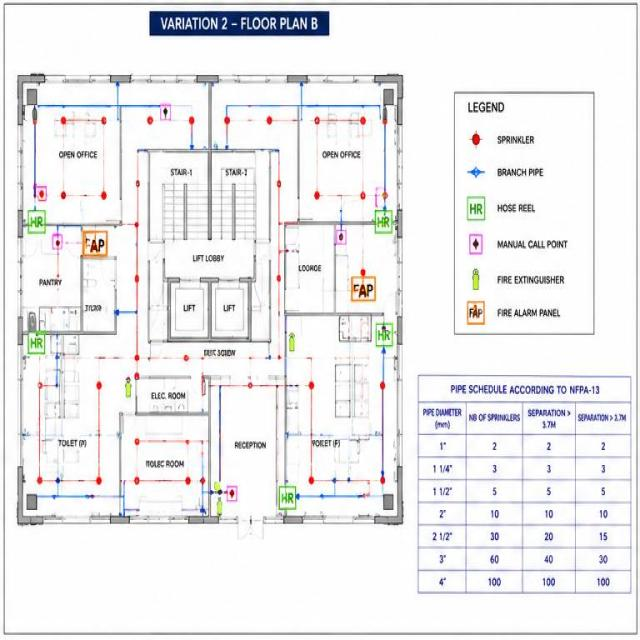branch_pipe: (133, 144, 287, 373), (133, 148, 284, 374), (221, 80, 412, 208), (308, 109, 371, 207), (128, 429, 201, 491), (32, 484, 130, 524)
fire_alarm_panel: (78, 228, 115, 264), (350, 274, 379, 304)
fire_extinguisher: (208, 491, 229, 519), (285, 326, 300, 358), (122, 372, 134, 404)
hose_reel: (374, 321, 396, 353), (369, 208, 395, 235), (24, 208, 48, 236), (278, 484, 297, 513), (27, 329, 47, 356)
manual_call_point: (158, 96, 175, 125), (334, 225, 350, 247), (225, 483, 242, 503), (34, 182, 49, 204), (51, 232, 65, 254)
sprinkler: (185, 110, 200, 133), (306, 376, 322, 396), (56, 114, 69, 137), (89, 380, 105, 396), (197, 471, 210, 490), (264, 113, 276, 132)
